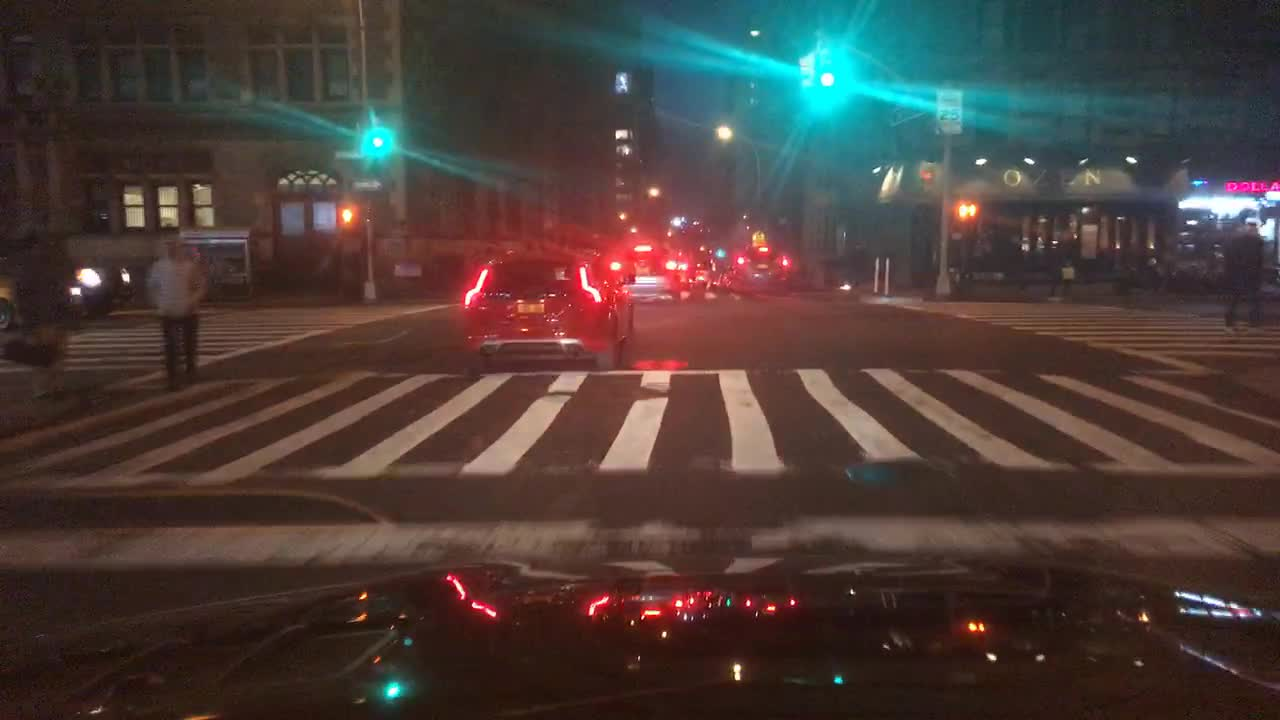car: (457, 243, 636, 368), (0, 242, 134, 326), (611, 256, 681, 311), (1170, 238, 1236, 291), (720, 247, 792, 289), (0, 275, 26, 337), (685, 268, 715, 294)
person: (141, 230, 208, 394), (16, 233, 68, 397), (1228, 220, 1264, 325)
traffic light: (362, 130, 389, 149), (818, 66, 837, 93), (336, 204, 359, 224), (952, 202, 978, 218)
traffic sign: (932, 86, 965, 133), (344, 176, 388, 195), (753, 229, 768, 243)
